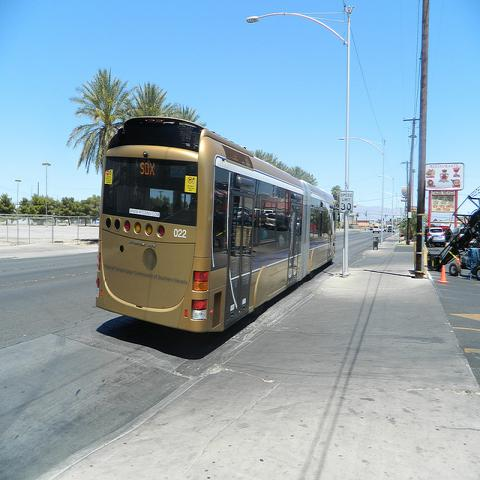bus: (90, 114, 339, 338)
car: (427, 227, 445, 247), (452, 226, 465, 242), (372, 226, 380, 234), (388, 226, 391, 232)
truck: (427, 187, 479, 282)
